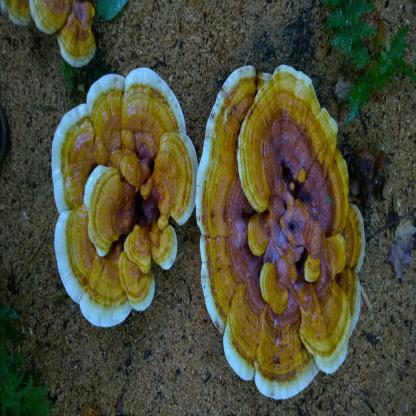Mushroom: (196, 64, 366, 401), (60, 61, 197, 364), (0, 0, 96, 69)
